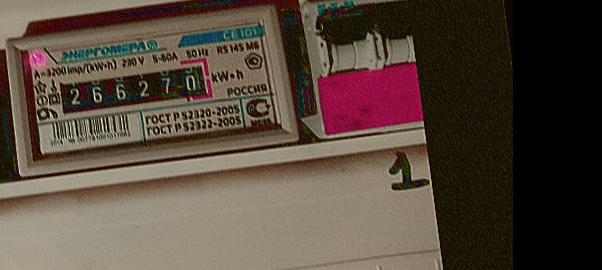0: (181, 72, 195, 93)
2: (65, 85, 82, 107), (135, 78, 149, 99)
6: (88, 84, 103, 105), (112, 81, 126, 101)
7: (158, 75, 172, 95)
screen: (43, 50, 222, 128)
